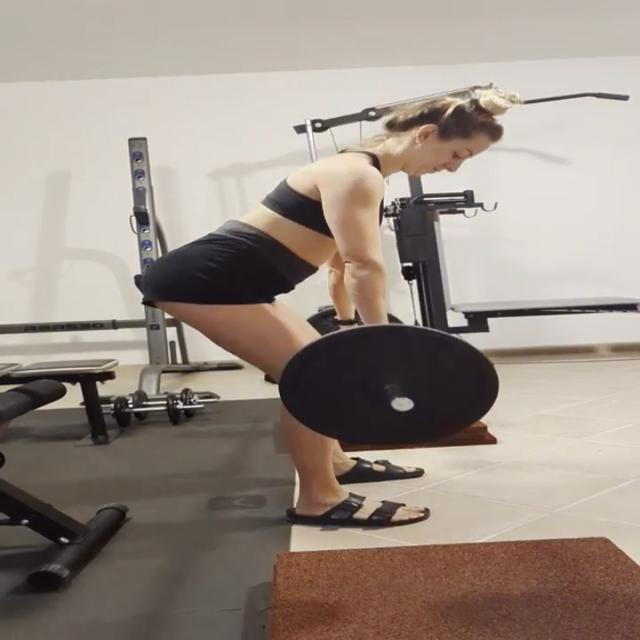barbell: (277, 323, 505, 451)
